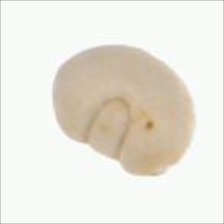L5: (79, 94, 140, 166), (132, 44, 182, 80)
L6: (48, 41, 200, 177)
